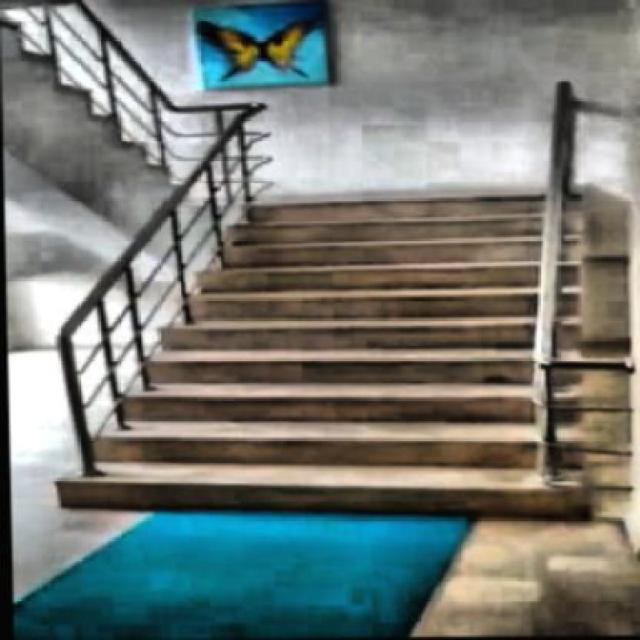stair: (54, 180, 615, 529)
